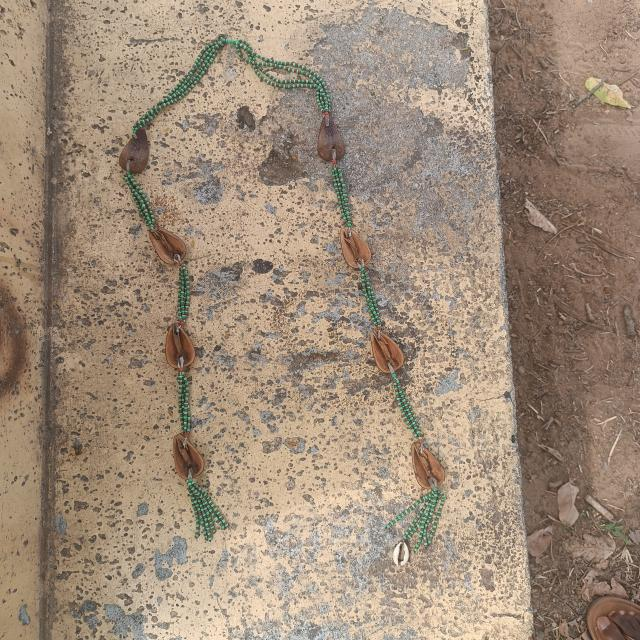facedown: (313, 108, 351, 166), (116, 124, 150, 180)
faceup: (408, 436, 449, 491), (368, 322, 408, 377), (147, 222, 190, 269), (162, 319, 199, 372), (172, 432, 206, 486), (338, 225, 372, 272)
